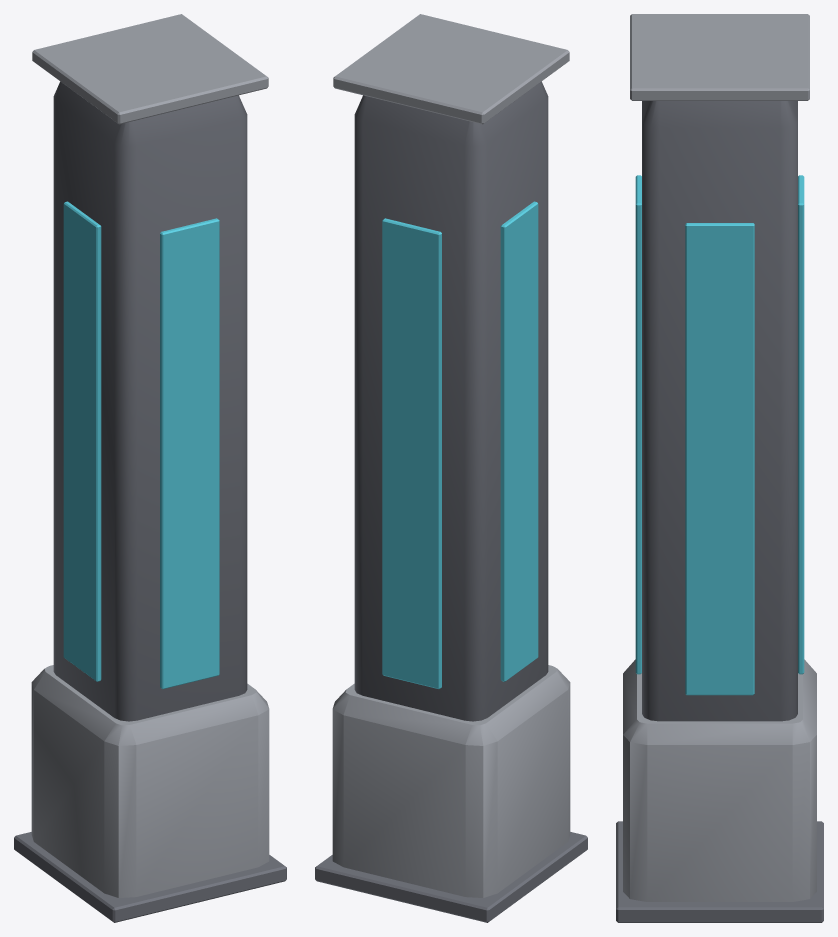
Rendered from laser-tag-arena-and-activity-centre-arena-pillar-7e77b1ae__34485.glb.
The picture shows the model from 3 angles, left to right: view 1: azimuth 30°, elevation 25°; view 2: azimuth 150°, elevation 25°; view 3: azimuth 270°, elevation 25°; orthographic projection. The views are drawn at different scales.
Parts seen in each view (by area): view 1: arena-pillar; view 2: arena-pillar; view 3: arena-pillar.
Part boxes in pixels (left/top/right/bottom): arena-pillar: left=14, top=14, right=286, bottom=922; arena-pillar: left=315, top=14, right=587, bottom=922; arena-pillar: left=616, top=14, right=823, bottom=922.
Size of the model in its own units: 0.5999 by 2.64 by 0.5999.
